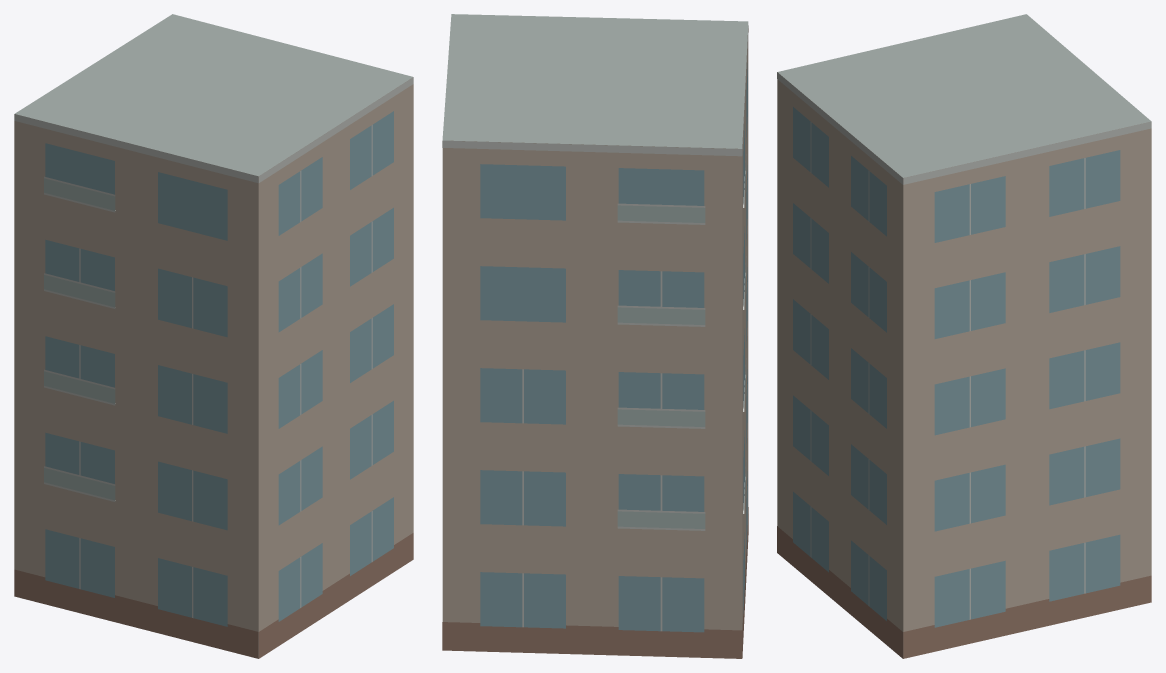
The model's file is survey-upis-32877455.glb.
3 views of the same model, side by side, from view 1: azimuth 30°, elevation 25°; view 2: azimuth 150°, elevation 25°; view 3: azimuth 270°, elevation 25° (orthographic). The views are drawn at different scales.
Visible parts, largest first — view 1: survey-upis-32877455.tmp; view 2: survey-upis-32877455.tmp; view 3: survey-upis-32877455.tmp.
Part boxes in pixels (left/top/right/bottom): survey-upis-32877455.tmp: left=14, top=14, right=413, bottom=658; survey-upis-32877455.tmp: left=442, top=14, right=748, bottom=658; survey-upis-32877455.tmp: left=777, top=14, right=1151, bottom=658.
Bounding box in the file's own units: 12.34 × 16.86 × 11.91.
